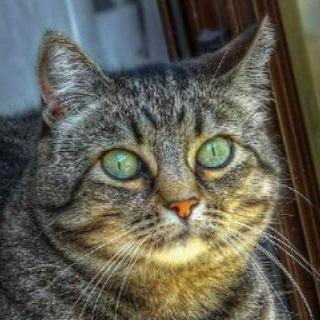cat: (34, 23, 291, 286)
nose: (155, 179, 204, 226)
